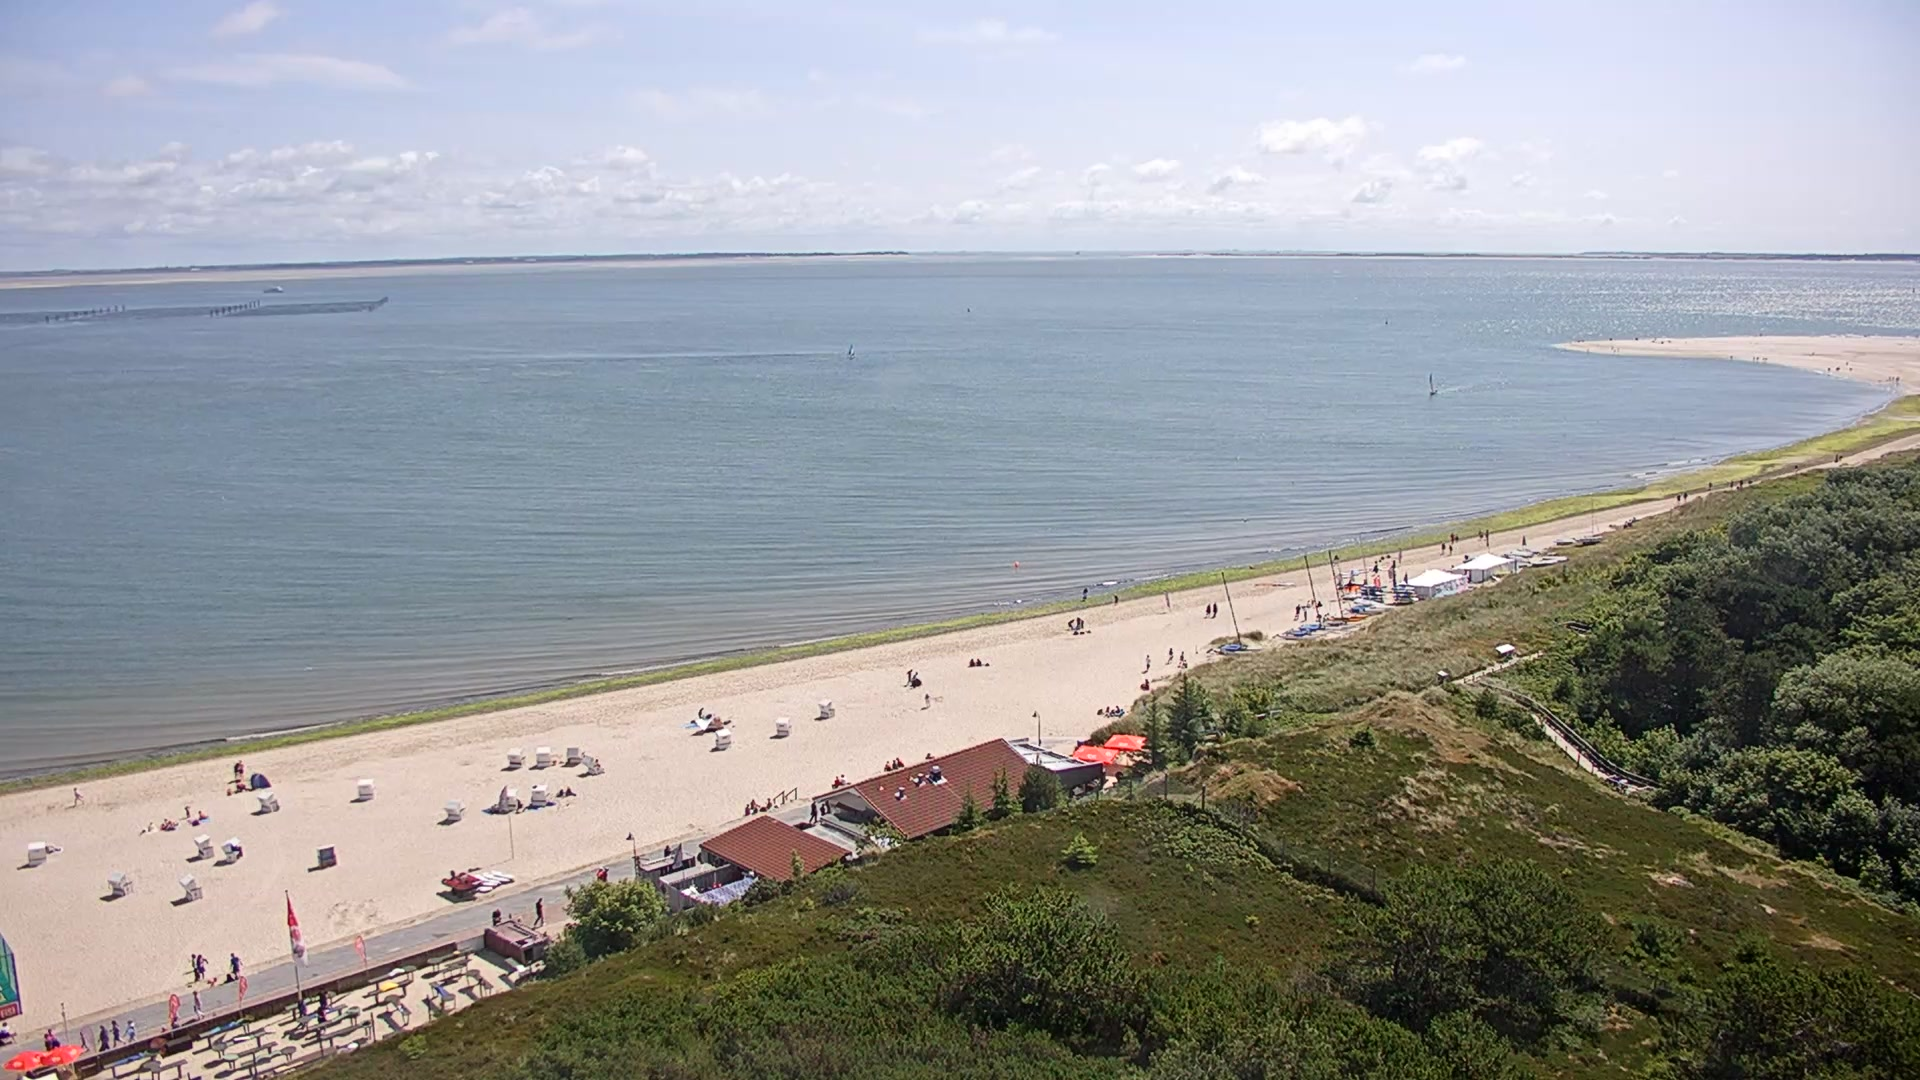human: (108, 1018, 125, 1047), (309, 985, 328, 1007), (532, 895, 545, 929), (191, 989, 205, 1020), (316, 1003, 327, 1036), (124, 1018, 137, 1043), (229, 951, 241, 979), (97, 1023, 110, 1050), (196, 953, 208, 978), (807, 798, 818, 823), (73, 785, 85, 806), (491, 906, 502, 925), (1163, 589, 1172, 612), (238, 758, 246, 780), (1, 1020, 11, 1043), (894, 785, 906, 801), (47, 1028, 57, 1049), (600, 865, 610, 882), (912, 670, 923, 687), (565, 785, 577, 797), (43, 1030, 52, 1050), (595, 867, 604, 882), (905, 667, 913, 686), (1145, 654, 1152, 673), (197, 809, 209, 820), (232, 760, 239, 781), (1294, 602, 1301, 620), (189, 953, 197, 970), (1166, 647, 1174, 665), (1178, 650, 1186, 667), (831, 774, 840, 788), (1078, 616, 1085, 631), (750, 798, 758, 813), (819, 802, 827, 817), (192, 966, 201, 982), (222, 972, 233, 983), (1139, 678, 1149, 691), (1212, 601, 1218, 618), (895, 756, 905, 768), (1204, 603, 1210, 619), (1081, 586, 1088, 601), (1301, 604, 1308, 620), (183, 804, 191, 818), (664, 843, 672, 856), (923, 692, 930, 708), (147, 820, 155, 831), (592, 758, 601, 769), (208, 976, 218, 987), (1066, 618, 1074, 630), (159, 817, 168, 829), (696, 706, 704, 718), (883, 759, 892, 771), (764, 797, 772, 809), (1112, 593, 1118, 606), (744, 803, 750, 816), (926, 752, 936, 760), (840, 773, 847, 785), (1104, 704, 1110, 716), (1461, 553, 1469, 562), (556, 788, 565, 798), (752, 804, 759, 814), (1076, 616, 1081, 629), (1440, 541, 1445, 554), (1478, 528, 1484, 540), (1522, 534, 1528, 545), (1738, 478, 1744, 488), (1682, 491, 1688, 502), (1014, 559, 1021, 568), (969, 657, 976, 666), (1448, 544, 1453, 555), (1676, 493, 1681, 504), (1794, 463, 1799, 473), (892, 758, 897, 769), (976, 657, 982, 665), (1708, 481, 1713, 490), (1834, 453, 1840, 463), (1896, 375, 1901, 384), (1114, 704, 1120, 714), (1316, 600, 1323, 606), (1096, 708, 1103, 715), (1450, 532, 1455, 542), (1730, 479, 1734, 489), (1838, 454, 1843, 462), (1110, 709, 1115, 717), (1455, 534, 1459, 542), (1845, 360, 1849, 367)
sea: (1275, 553, 1329, 639), (1212, 570, 1261, 655), (1347, 535, 1384, 607), (1320, 549, 1354, 627), (440, 869, 484, 893), (1429, 371, 1438, 394), (263, 284, 284, 292), (847, 342, 855, 358)
